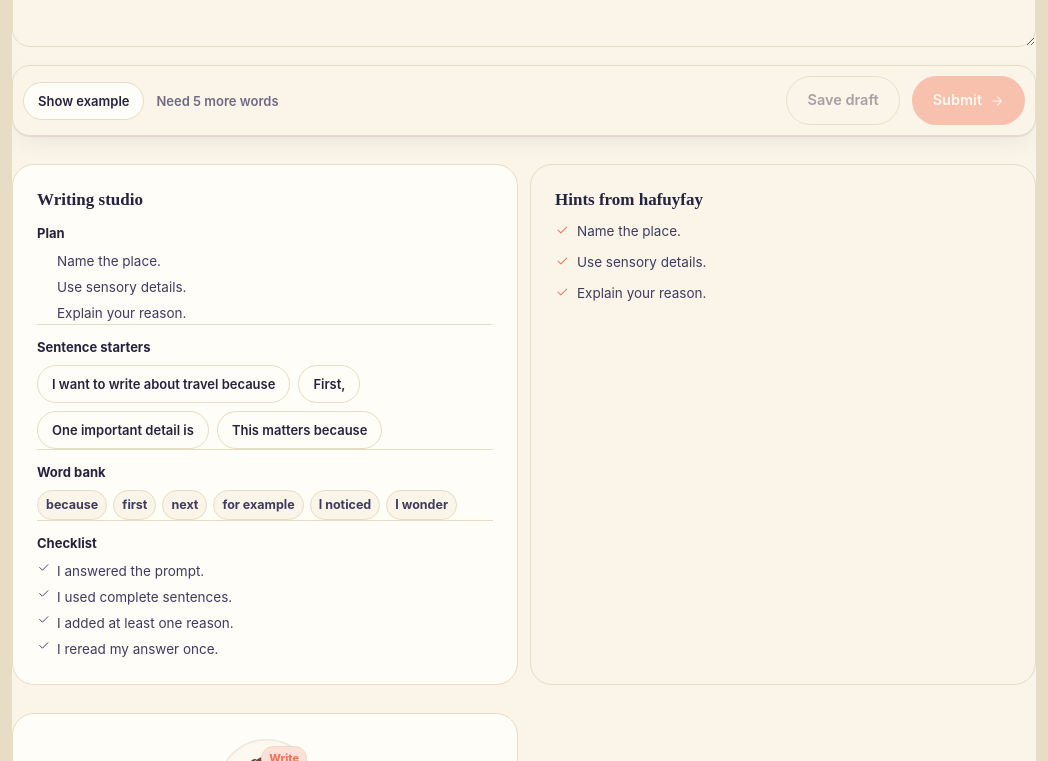
Scenario: TaskRoute › inserts a writing scaffold sentence starter into the draft
This screenshot has width=1048, height=761.
(page scrolled)
Check: the heading "Writing studio" is shown, box [37, 190, 143, 209]
What coordinates should you click on to do the following:
click the button "First,"
I would click on:
 (329, 384)
Its box is [298, 365, 360, 403].
(page scrolled)
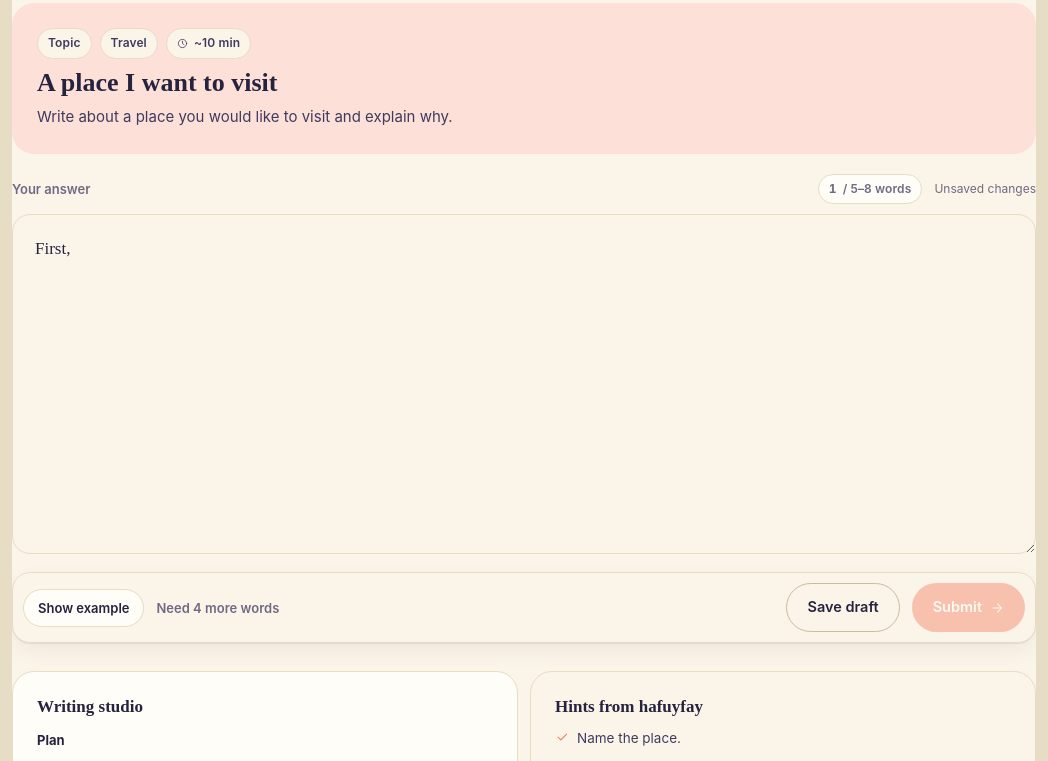
Check: the text box with placeholder "Start writing here…" holds "First, ", box [12, 214, 1036, 554]
